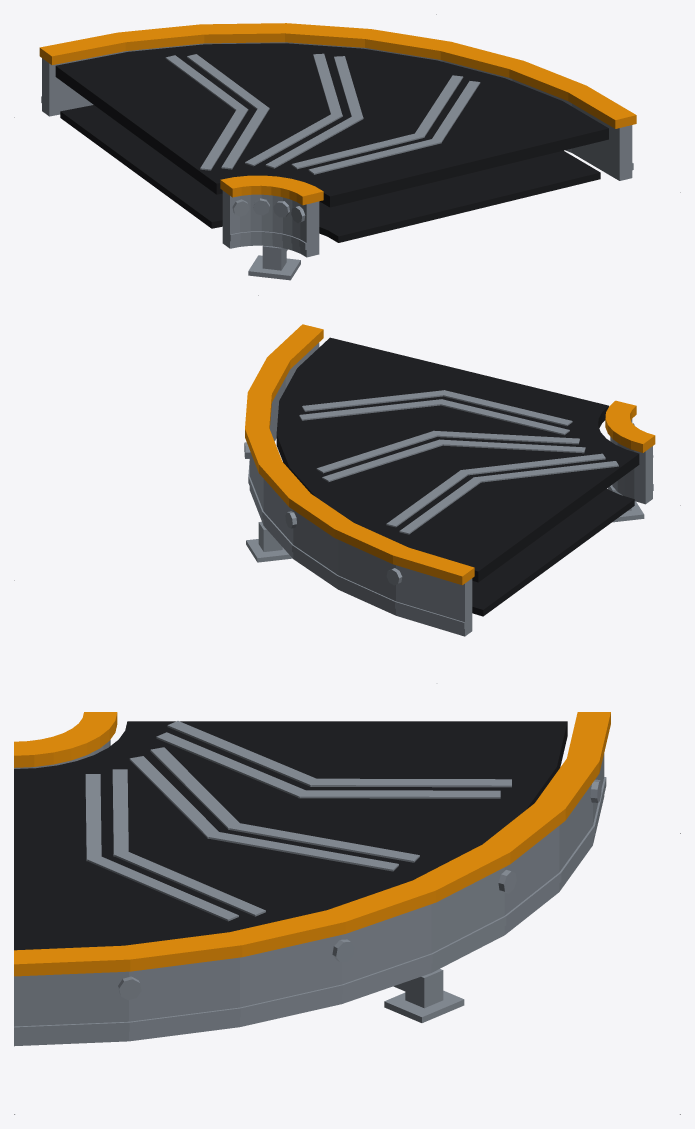
The model's file is convoyeur_virage_t2.glb.
The picture shows the model from 3 angles, top to bottom: view 1: azimuth 30°, elevation 25°; view 2: azimuth 150°, elevation 25°; view 3: azimuth 270°, elevation 25°; orthographic projection. The views are drawn at different scales.
Parts seen in each view (by area): view 1: bande_porteuse.024, bande_retour.024, rive_1.024, bande_acier.042, longeron_1.024, longeron_-1.024, pieces_acier.048, rive_-1.024, nervure_-1.012; view 2: bande_porteuse.024, bande_acier.042, longeron_1.024, rive_1.024, bande_retour.024, nervure_1.012, pieces_acier.048, rive_-1.024, longeron_-1.024; view 3: bande_porteuse.024, longeron_1.024, rive_1.024, bande_acier.042, nervure_1.012, pieces_acier.048, rive_-1.024.
Part boxes in pixels (left/top/right/bottom): bande_porteuse.024: left=55, top=43, right=608, bottom=207; bande_retour.024: left=60, top=105, right=600, bottom=242; rive_1.024: left=39, top=23, right=636, bottom=128; bande_acier.042: left=165, top=53, right=480, bottom=174; longeron_1.024: left=42, top=42, right=632, bottom=180; longeron_-1.024: left=222, top=190, right=319, bottom=257; pieces_acier.048: left=232, top=198, right=305, bottom=280; rive_-1.024: left=220, top=175, right=323, bottom=205; nervure_-1.012: left=230, top=231, right=307, bottom=249; bande_porteuse.024: left=276, top=337, right=639, bottom=582; bande_acier.042: left=299, top=390, right=618, bottom=534; longeron_1.024: left=249, top=342, right=472, bottom=636; rive_1.024: left=245, top=324, right=474, bottom=585; bande_retour.024: left=472, top=488, right=634, bottom=616; nervure_1.012: left=248, top=461, right=465, bottom=629; pieces_acier.048: left=244, top=423, right=653, bottom=585; rive_-1.024: left=605, top=400, right=655, bottom=452; longeron_-1.024: left=610, top=419, right=652, bottom=504; bande_porteuse.024: left=14, top=721, right=567, bottom=950; longeron_1.024: left=14, top=753, right=604, bottom=1046; rive_1.024: left=14, top=712, right=610, bottom=976; bande_acier.042: left=85, top=721, right=511, bottom=921; nervure_1.012: left=14, top=777, right=606, bottom=1036; pieces_acier.048: left=118, top=779, right=601, bottom=1022; rive_-1.024: left=14, top=712, right=117, bottom=767.
Bounding box in the file's own units: 1 × 0.2 × 1.
